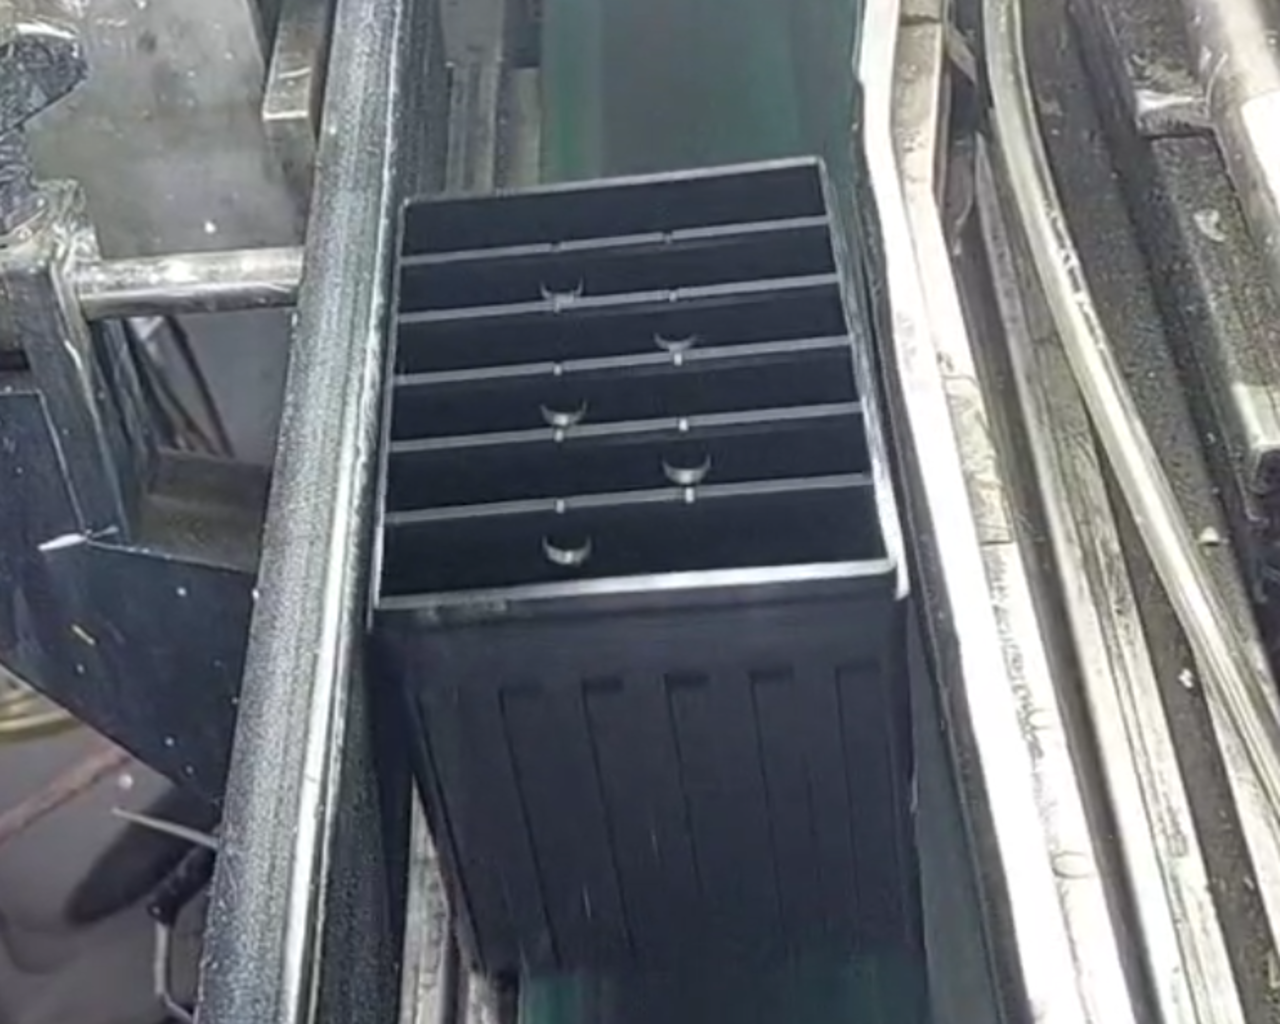box: (357, 144, 921, 644)
round: (646, 433, 721, 488), (535, 517, 598, 571), (531, 379, 594, 430), (530, 261, 590, 304), (648, 310, 707, 353)
